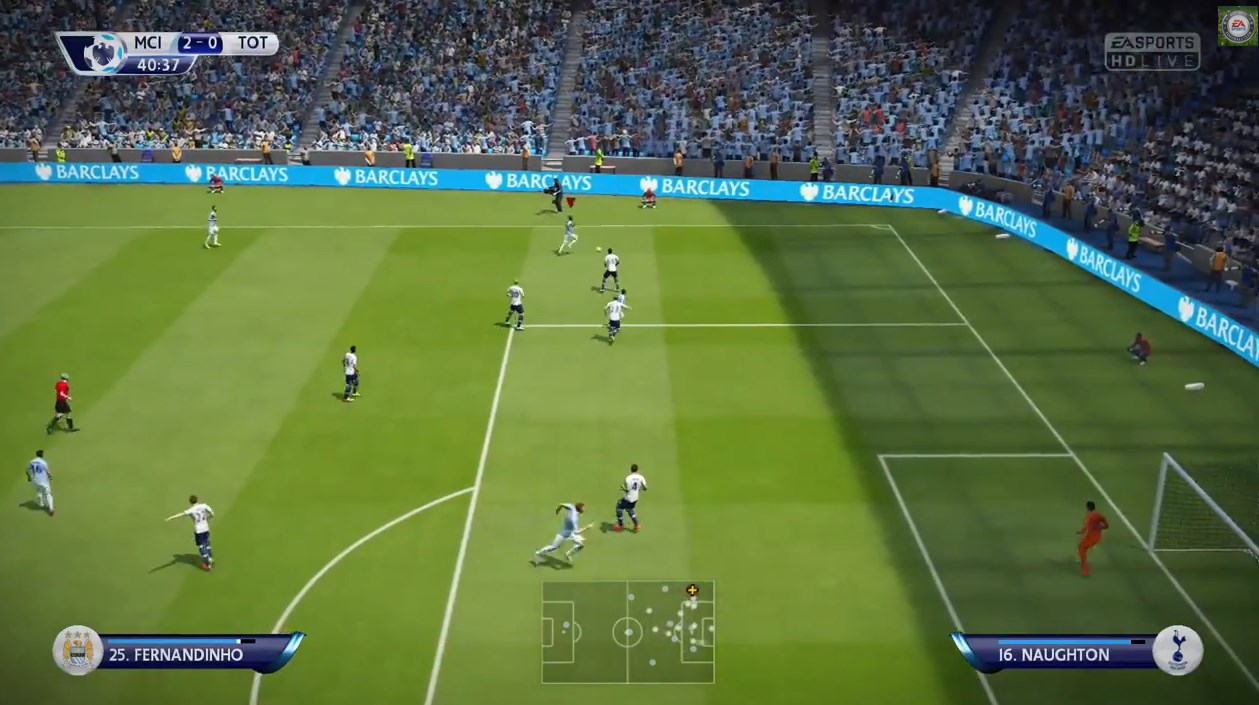ball: (594, 244, 607, 254)
goal: (1148, 446, 1258, 681)
player: (177, 489, 218, 571), (539, 502, 588, 568), (1075, 497, 1108, 580), (22, 445, 56, 521), (614, 462, 646, 531), (332, 343, 367, 404), (500, 274, 524, 331), (606, 296, 631, 343), (200, 198, 221, 253), (555, 214, 579, 254), (603, 250, 622, 288)
